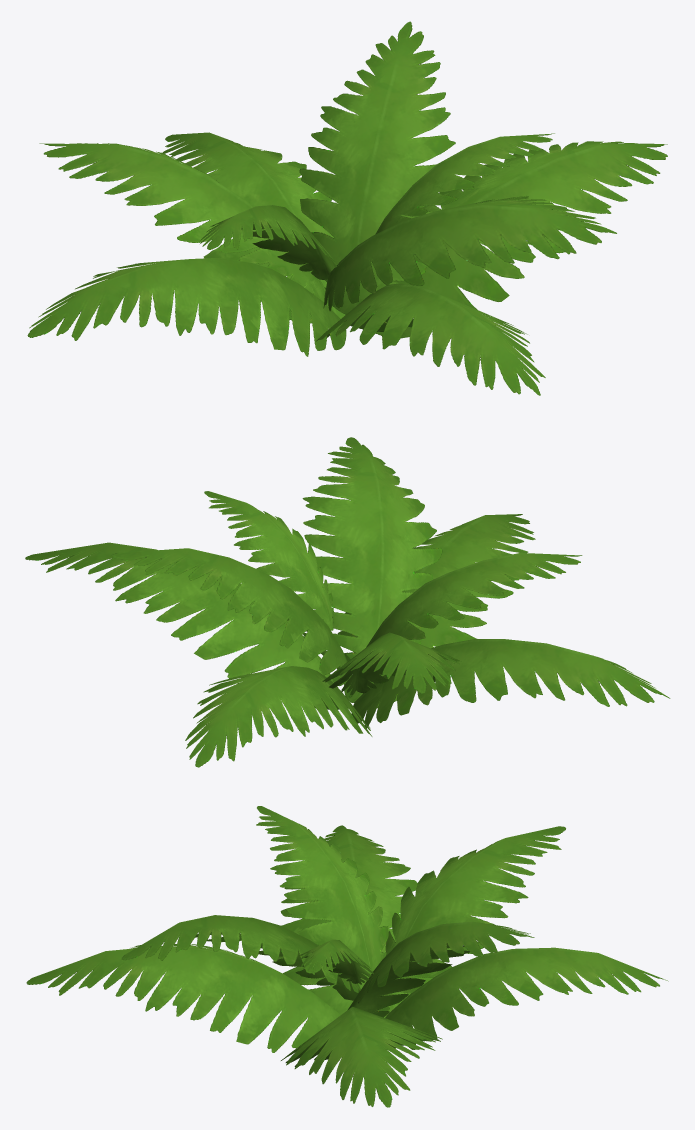
The model's file is Fern_1.gltf.
The picture shows the model from 3 angles, top to bottom: view 1: azimuth 30°, elevation 25°; view 2: azimuth 150°, elevation 25°; view 3: azimuth 270°, elevation 25°; orthographic projection. The views are drawn at different scales.
Visible parts, largest first — view 1: Fern_1; view 2: Fern_1; view 3: Fern_1.
Part boxes in pixels (bbox=[...]): Fern_1: bbox=[27, 21, 667, 395]; Fern_1: bbox=[25, 437, 670, 767]; Fern_1: bbox=[26, 806, 668, 1107].
Bounding box in the file's own units: 2.83 × 0.8402 × 2.65.
1 material, 1 textured.
